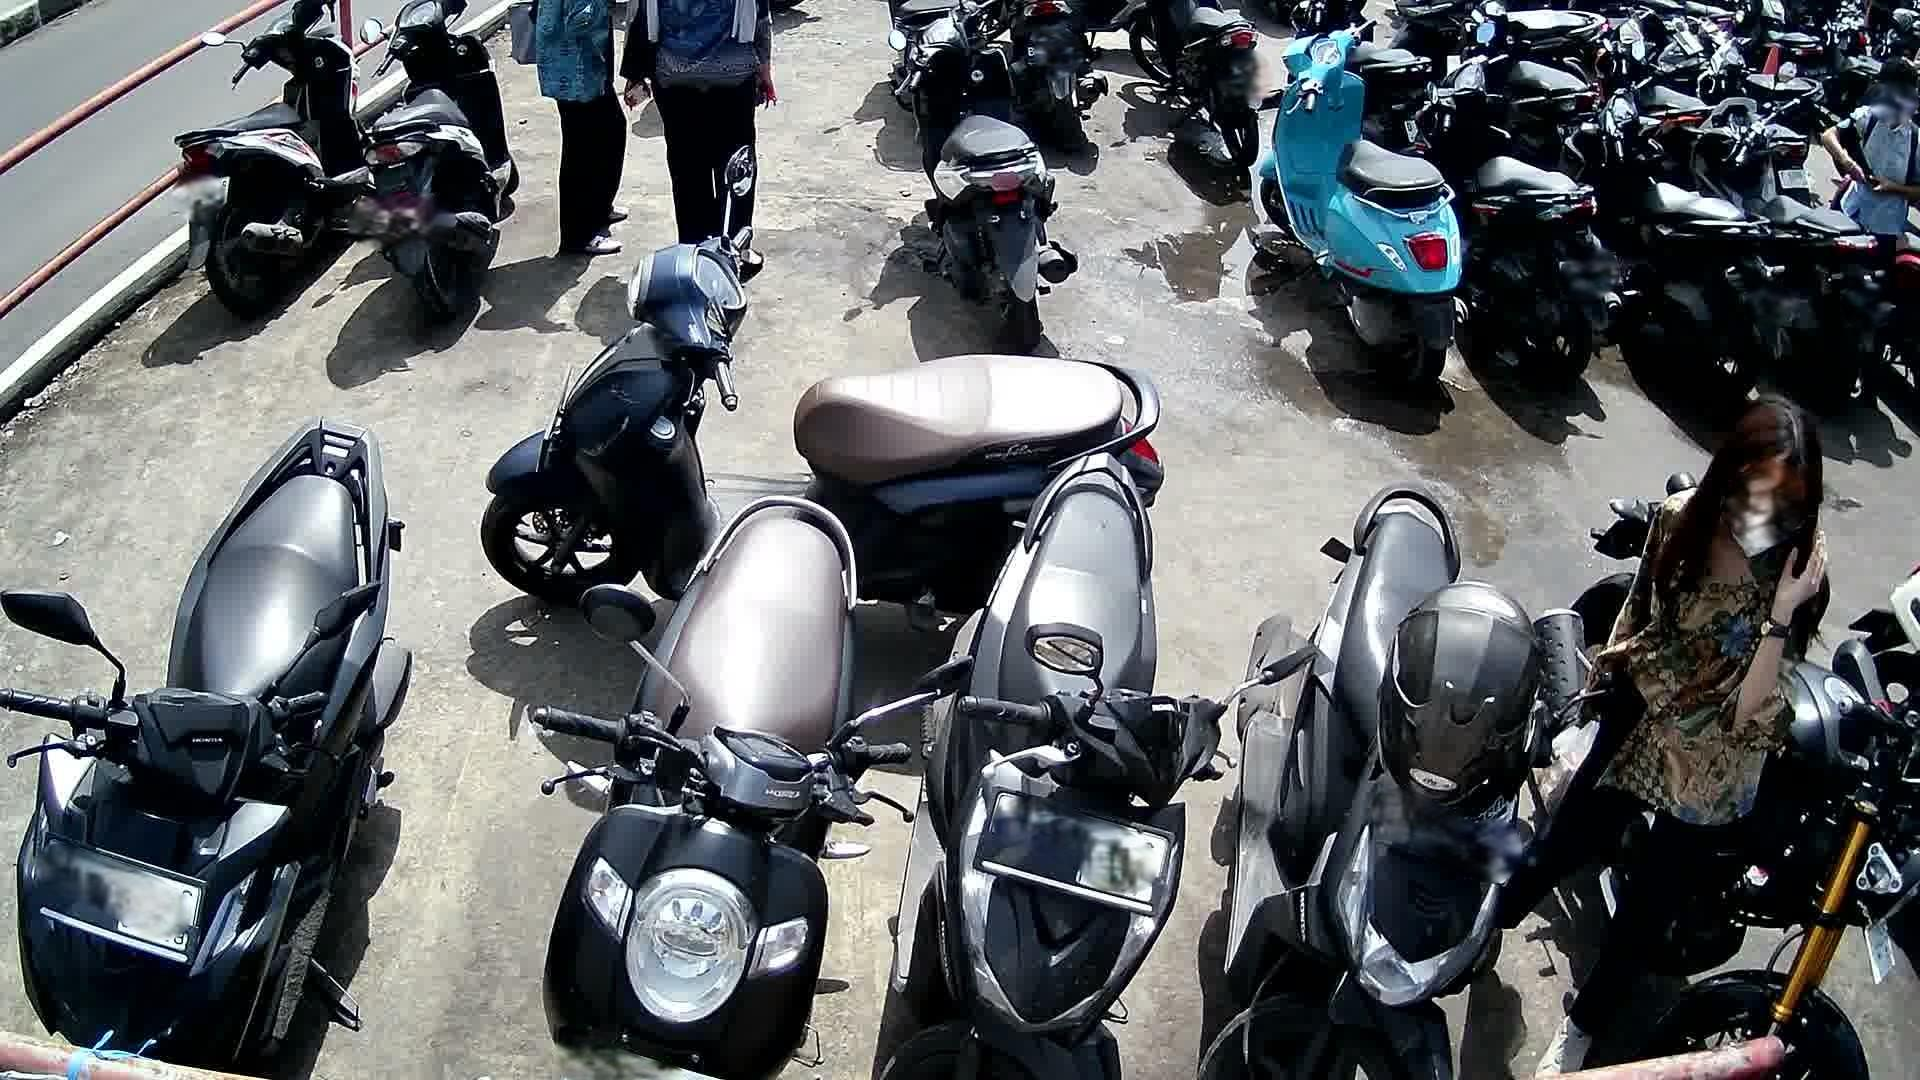motorcycle: (480, 148, 1166, 604), (887, 451, 1316, 1076), (0, 417, 415, 1060), (539, 497, 975, 1080), (1211, 484, 1596, 1080), (1403, 3, 1627, 394), (1553, 49, 1791, 404), (1258, 15, 1469, 394), (1684, 92, 1891, 427), (886, 0, 1081, 343), (171, 0, 367, 320), (357, 0, 524, 330)
